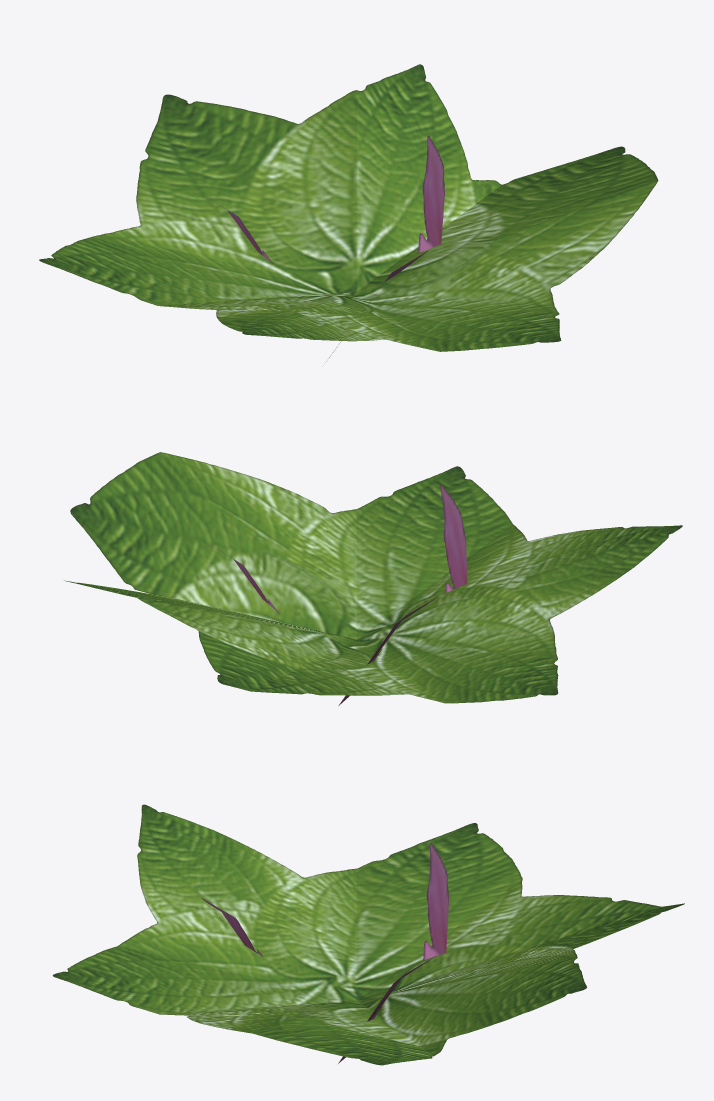
File: track_mushroom_env_plant_007.fbx
3 renders of one model, top to bottom at view 1: azimuth 30°, elevation 25°; view 2: azimuth 150°, elevation 25°; view 3: azimuth 270°, elevation 25°, orthographic.
Visible parts, largest first — view 1: track_mushroom_env_plant_07, track_mushroom_env_plant_07stem; view 2: track_mushroom_env_plant_07, track_mushroom_env_plant_07stem; view 3: track_mushroom_env_plant_07, track_mushroom_env_plant_07stem.
Boxes of the visible parts, bbox=[...] form: track_mushroom_env_plant_07: bbox=[39, 64, 658, 351]; track_mushroom_env_plant_07stem: bbox=[213, 135, 444, 361]; track_mushroom_env_plant_07: bbox=[64, 452, 682, 703]; track_mushroom_env_plant_07stem: bbox=[212, 484, 467, 705]; track_mushroom_env_plant_07: bbox=[52, 804, 684, 1065]; track_mushroom_env_plant_07stem: bbox=[202, 842, 448, 1063].
Size of the model in its own units: 113 by 34.94 by 114.
